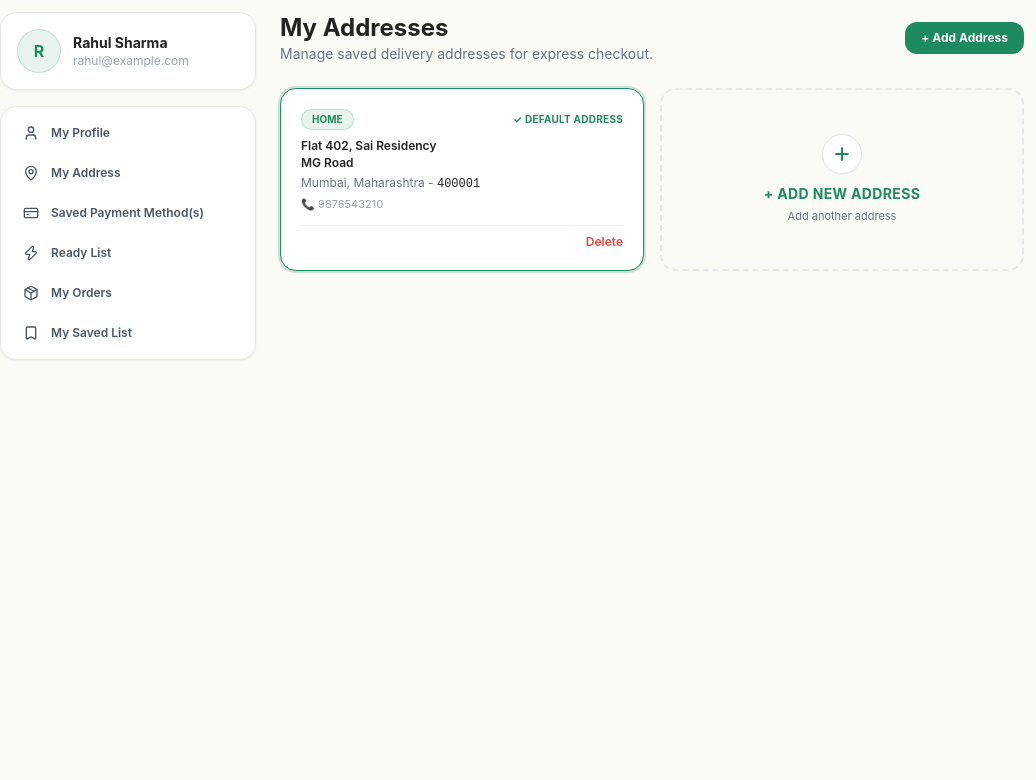
Scenario: Account Area & Cart Drawer Component Tests › MyAddressPage renders saved address and opens form on + Add Address click
This screenshot has width=1036, height=780.
Expected: the heading "My Addresses" is shown, left=280, top=13, right=448, bottom=42
Expected: the text "Flat 402, Sai Residency" is shown, left=301, top=138, right=436, bottom=153
Click the button "+ Add Address": (965,38) left=905, top=22, right=1024, bottom=54
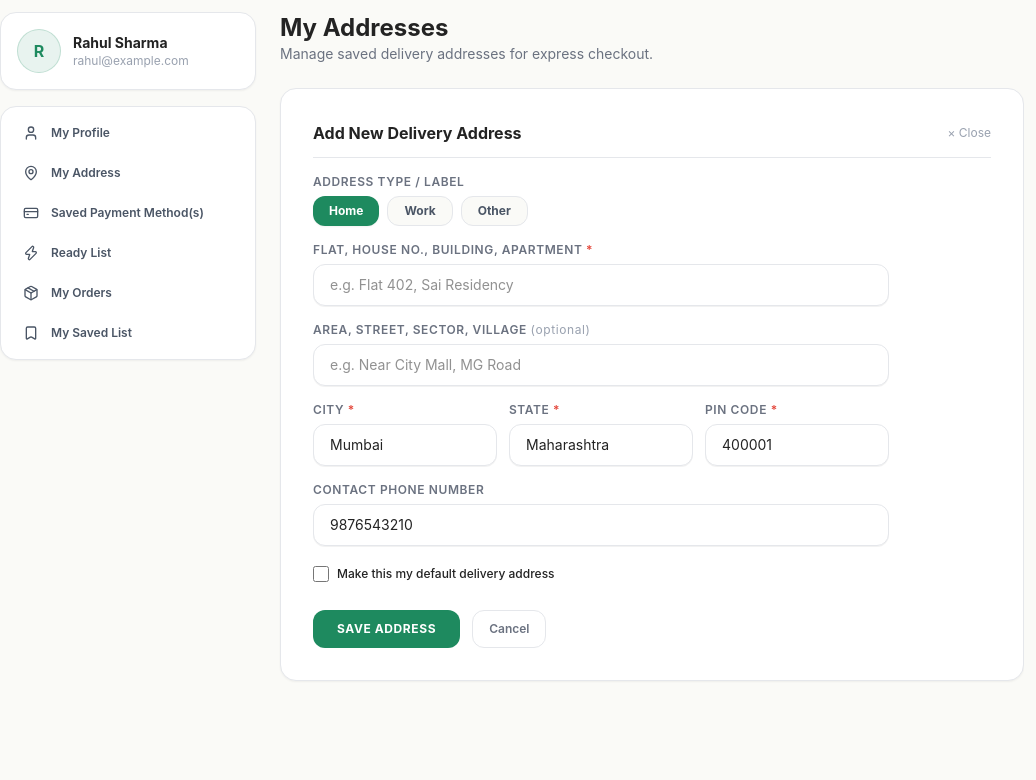
Result: the heading "Add New Delivery Address" is shown at left=313, top=121, right=522, bottom=145
Result: the field with placeholder "e.g. Flat 402, Sai Residency" is shown at left=313, top=264, right=889, bottom=306
Result: the button "Save Address" is shown at left=313, top=610, right=460, bottom=648
